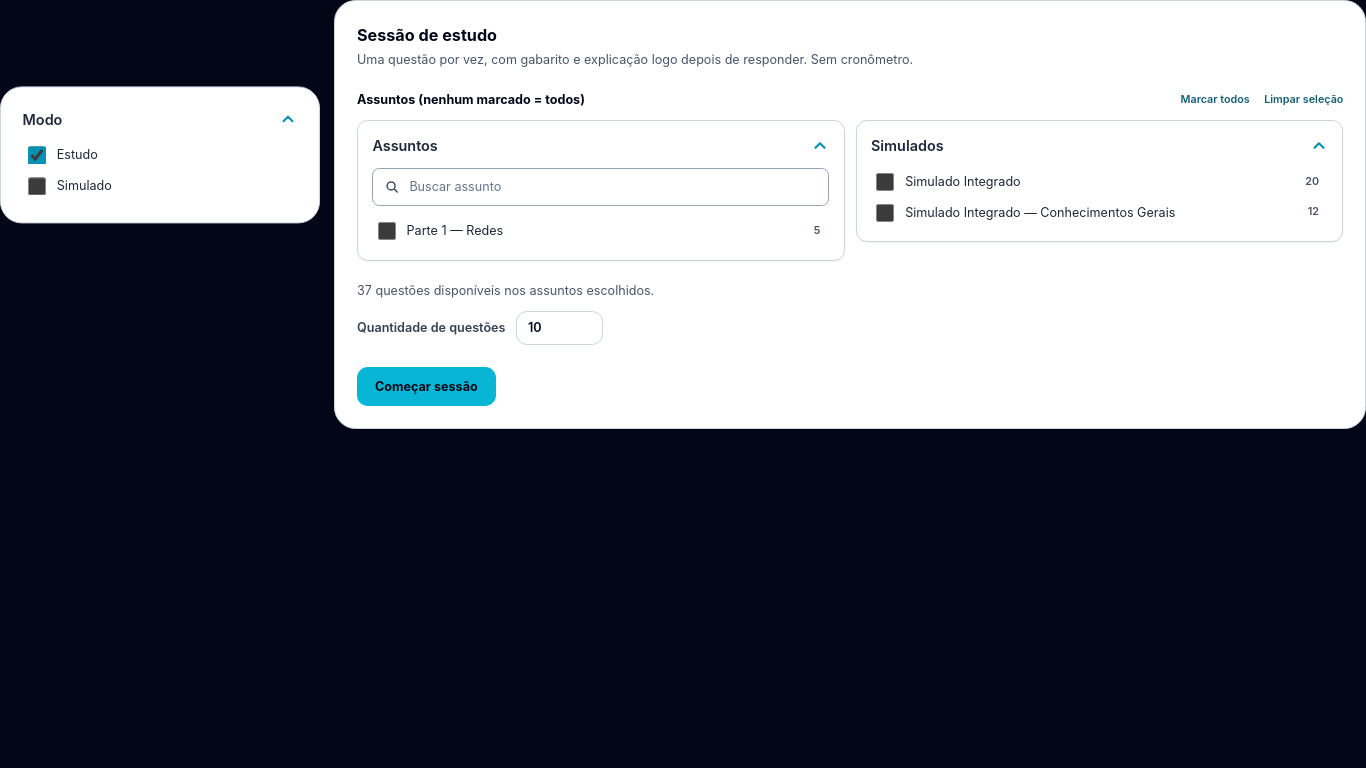
Test: PracticeHub › permite um simulado sem limite de tempo
This screenshot has width=1366, height=768.
Click the checkbox labelled "Parte 1 — Redes 5" at (387, 231), box [378,222,396,240]
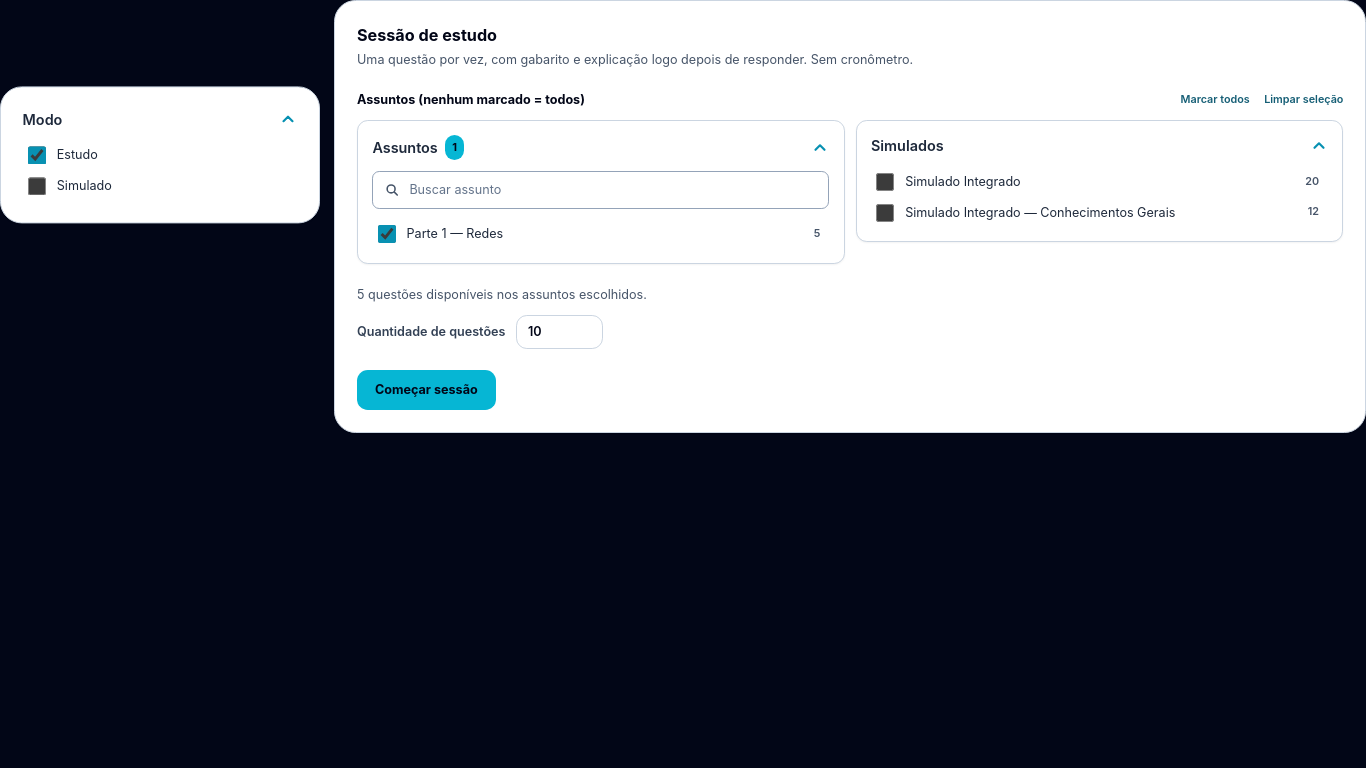
Click the checkbox labelled "Simulado" at (37, 186), box [28,177,46,195]
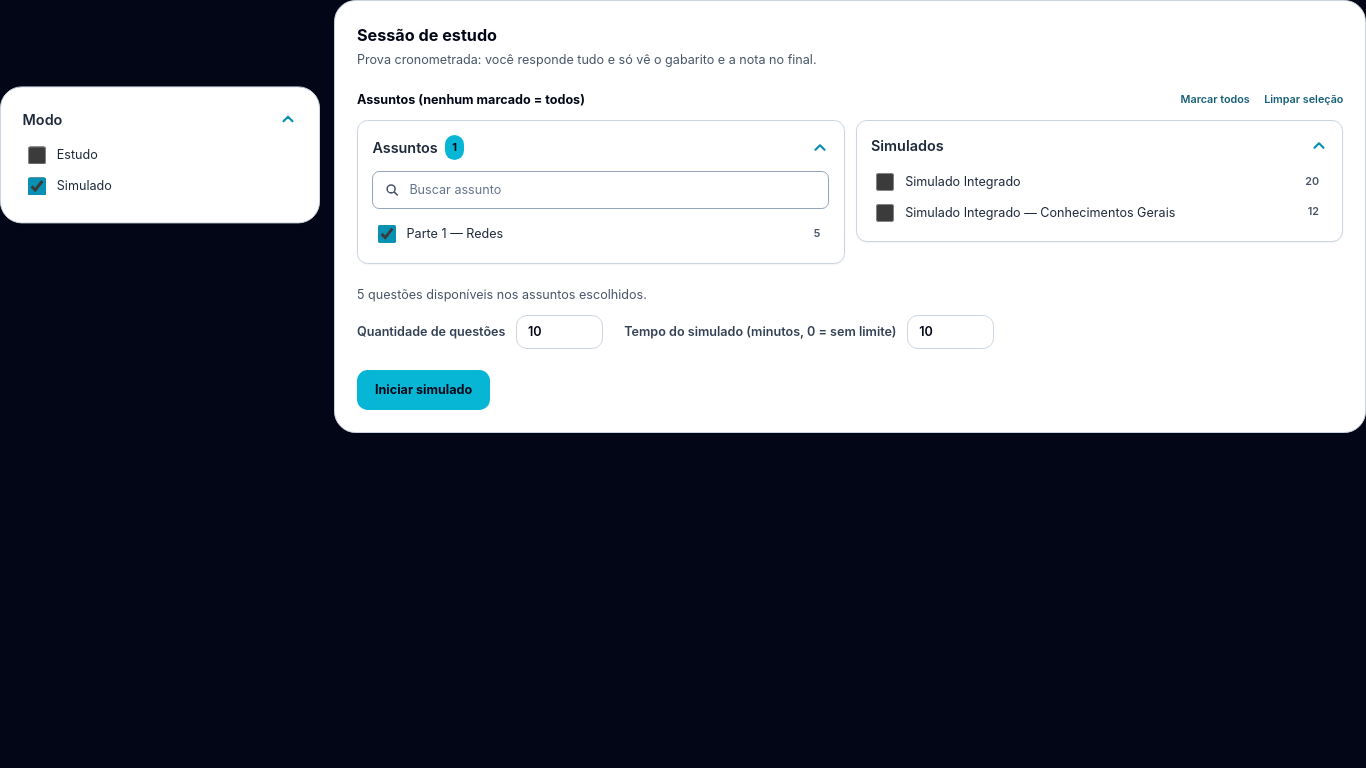
Replace the text in the number field labelled "Tempo do simulado (minutos, 0 = sem limite)" with "0" at (950, 332), box [907,314,994,349]
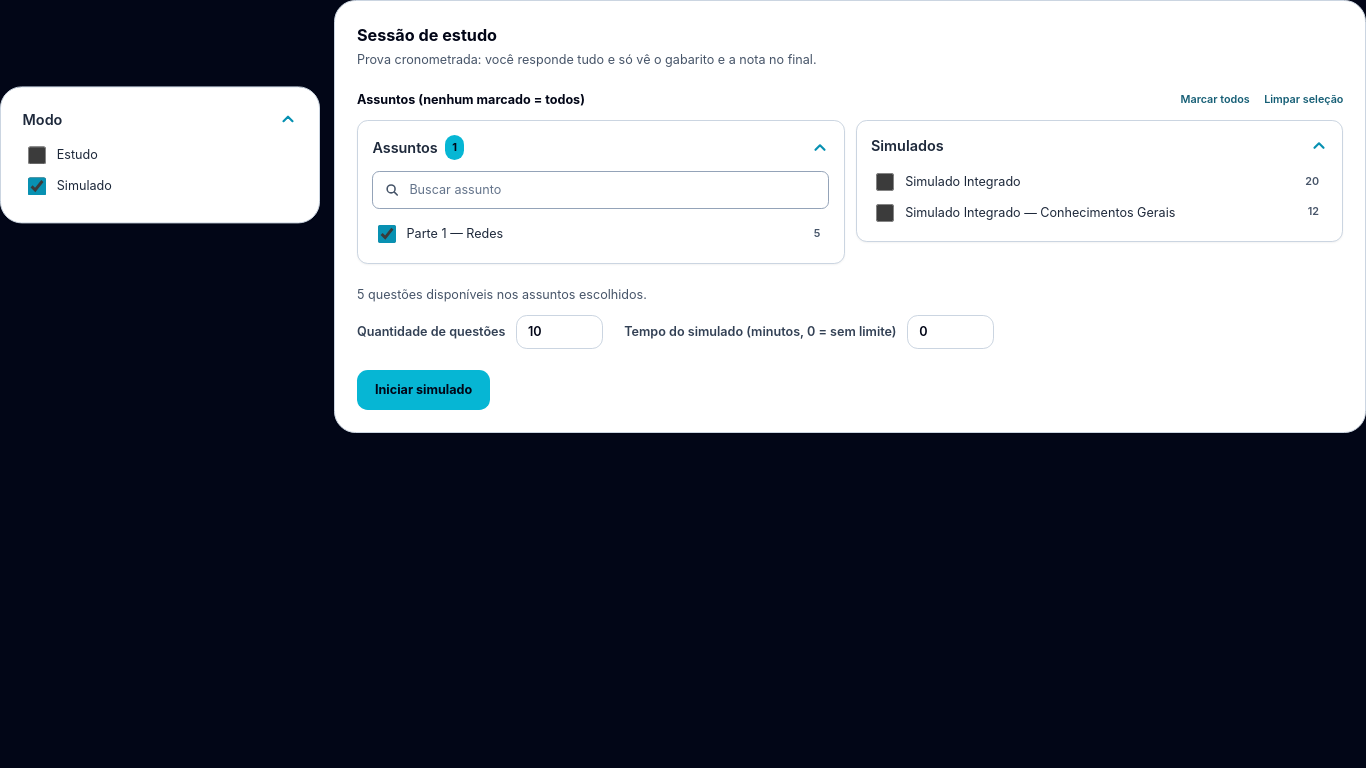
Click the button "Iniciar simulado" at (424, 390), box [357,370,490,410]
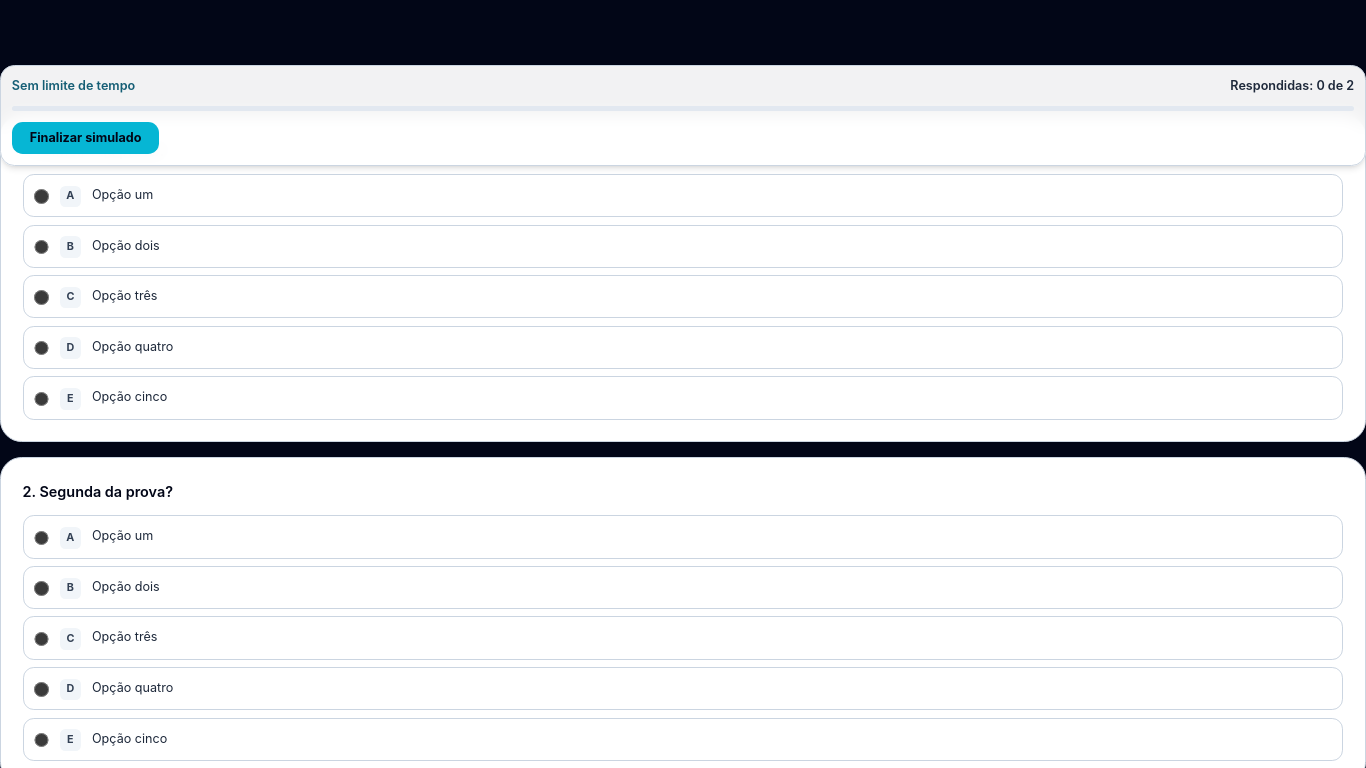
Expected: the text "Sem limite de tempo" is shown, [12,77,135,95]
